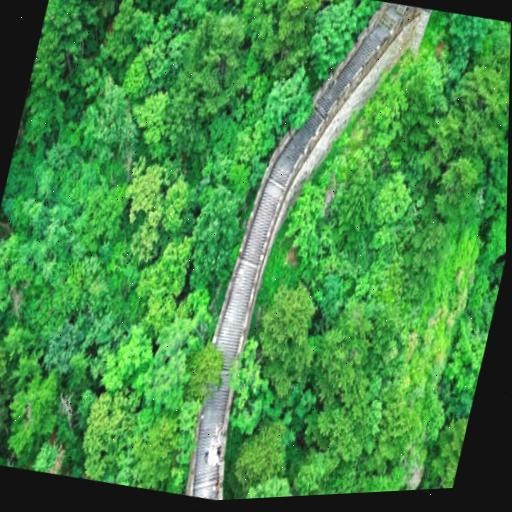tree-top: (291, 320, 387, 466), (166, 0, 252, 117), (182, 170, 253, 297), (140, 297, 207, 415), (113, 155, 189, 255), (1, 354, 76, 453), (444, 48, 510, 157), (253, 274, 324, 374), (214, 339, 278, 446), (95, 315, 164, 414), (30, 0, 106, 87), (392, 38, 458, 133), (225, 413, 292, 500), (135, 2, 197, 96), (62, 163, 134, 240), (29, 196, 90, 286), (254, 63, 320, 145), (139, 226, 196, 319), (301, 0, 366, 80), (127, 409, 187, 494), (279, 175, 334, 267), (88, 80, 147, 163), (433, 144, 489, 231), (330, 144, 383, 234), (16, 262, 78, 338), (96, 0, 154, 80), (391, 209, 446, 292), (443, 306, 493, 395), (474, 123, 509, 246), (423, 401, 471, 489), (176, 330, 229, 409), (0, 219, 40, 321), (363, 169, 413, 250), (373, 391, 423, 466), (242, 0, 293, 53), (130, 91, 172, 155), (411, 391, 450, 454), (279, 0, 320, 44), (243, 472, 306, 499), (0, 325, 15, 423), (28, 438, 66, 476), (0, 390, 6, 463)
